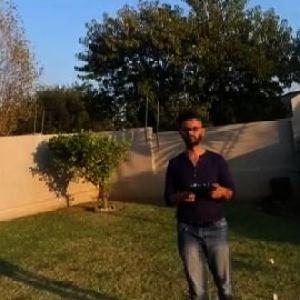follow: (160, 101, 241, 299)
